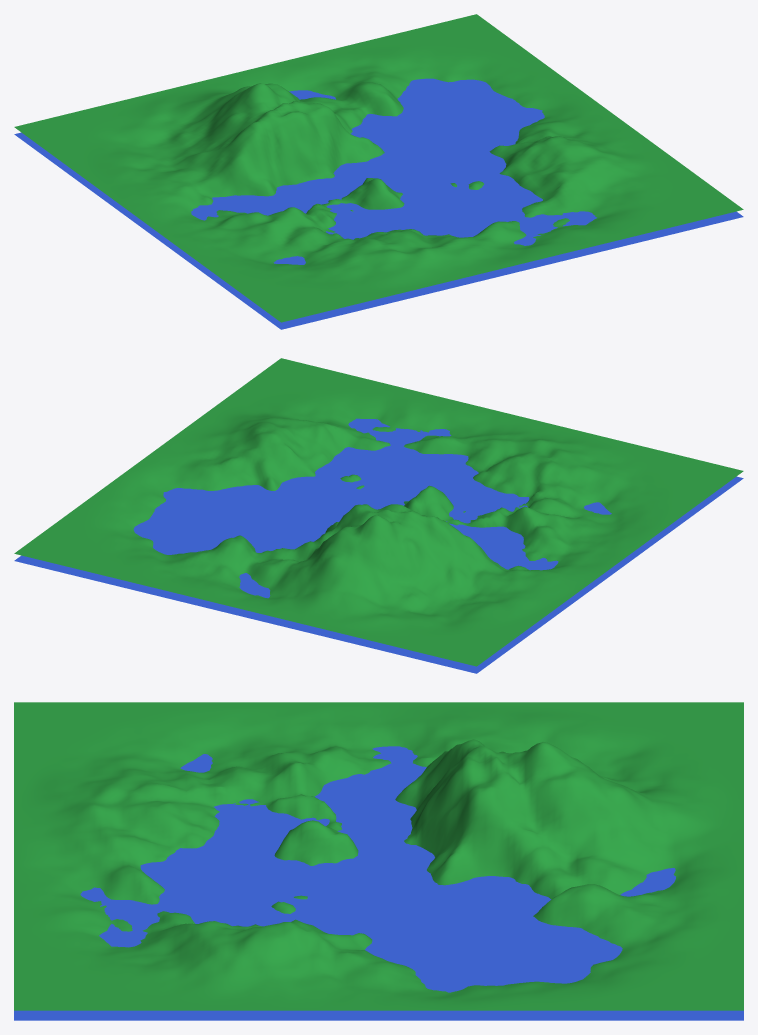
File: ground.glb
The picture shows the model from 3 angles, top to bottom: view 1: azimuth 30°, elevation 25°; view 2: azimuth 150°, elevation 25°; view 3: azimuth 270°, elevation 25°; orthographic projection. The views are drawn at different scales.
Parts seen in each view (by area): view 1: ground, water; view 2: ground, water; view 3: ground, water.
Part boxes in pixels (x1,y1,x2,y2): ground: [14, 14, 743, 322]; water: [14, 78, 743, 329]; ground: [14, 358, 743, 666]; water: [14, 418, 743, 673]; ground: [14, 702, 743, 1010]; water: [14, 746, 743, 1020].
Size of the model in its own units: 200 by 32.76 by 200.
